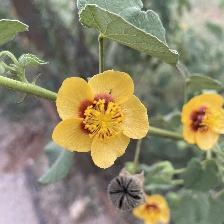indian mallow: (53, 69, 151, 170)
